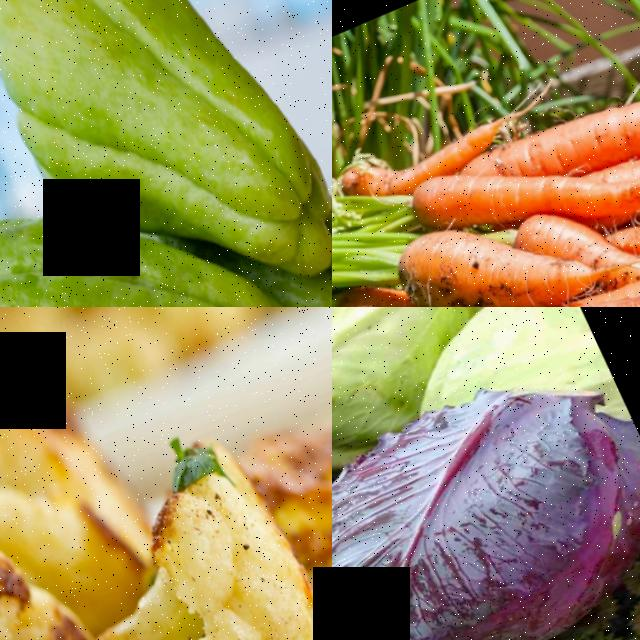cabbage: (332, 351, 640, 640), (332, 307, 475, 407)
carrot: (349, 153, 538, 280), (510, 27, 640, 185), (332, 102, 500, 214), (369, 203, 546, 307)
chayote: (0, 0, 261, 213), (0, 180, 278, 307)
